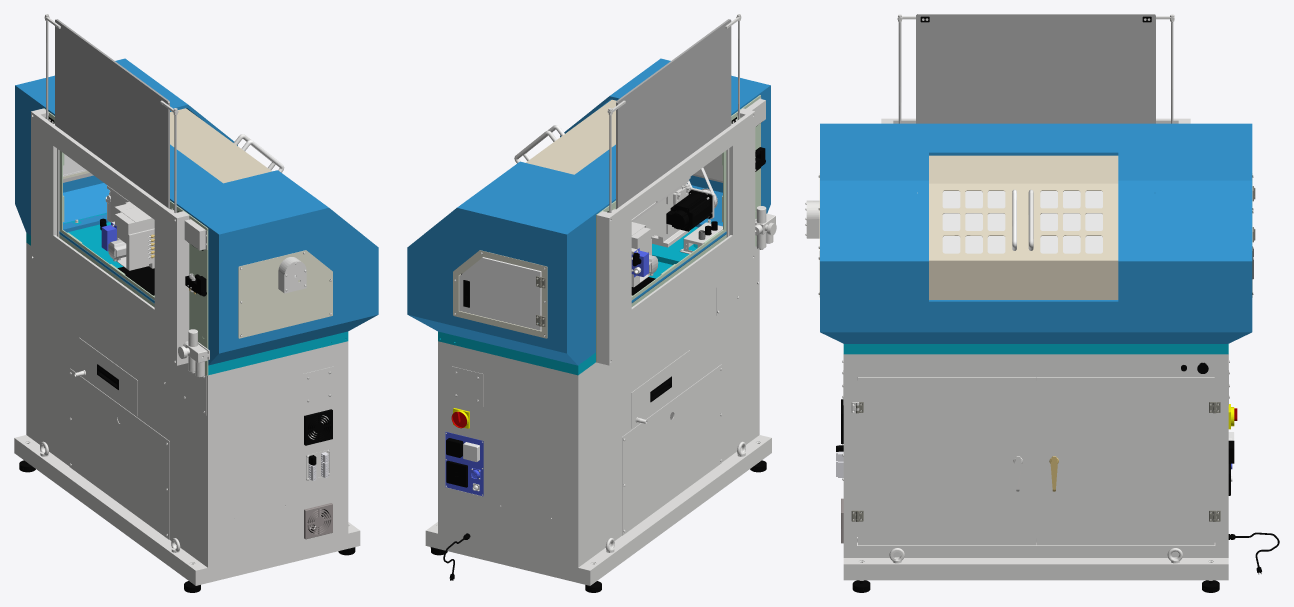
File: Lathe.fbx
3 views of the same model, side by side, from view 1: azimuth 30°, elevation 25°; view 2: azimuth 150°, elevation 25°; view 3: azimuth 270°, elevation 25° (orthographic). The views are drawn at different scales.
Parts seen in each view (by area): view 1: KC6230208; view 2: KC6230208; view 3: KC6230208.
Boxes of the visible parts, x1=… form: KC6230208: x1=14, y1=14, x2=378, y2=592; KC6230208: x1=407, y1=14, x2=776, y2=592; KC6230208: x1=805, y1=14, x2=1279, y2=592.
Size of the model in its own units: 74.4 by 186 by 160.
